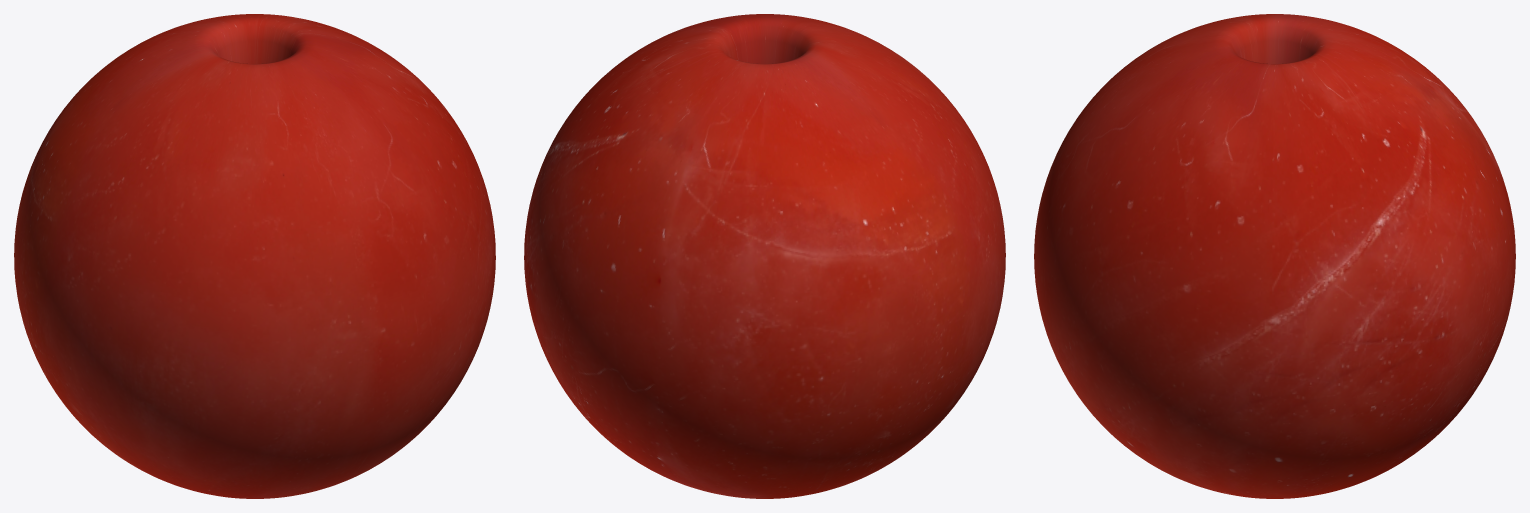
The model's file is ReAg.glb.
3 views of the same model, side by side, from view 1: azimuth 30°, elevation 25°; view 2: azimuth 150°, elevation 25°; view 3: azimuth 270°, elevation 25° (orthographic).
Visible parts, largest first — view 1: Sphere; view 2: Sphere; view 3: Sphere.
Part boxes in pixels (x1,y1,x2,y2): Sphere: [14, 14, 495, 498]; Sphere: [524, 14, 1005, 498]; Sphere: [1034, 14, 1515, 498].
Bounding box in the file's own units: 0.9841 × 0.9642 × 0.9841.
Materials: 1 (1 with a texture image).
